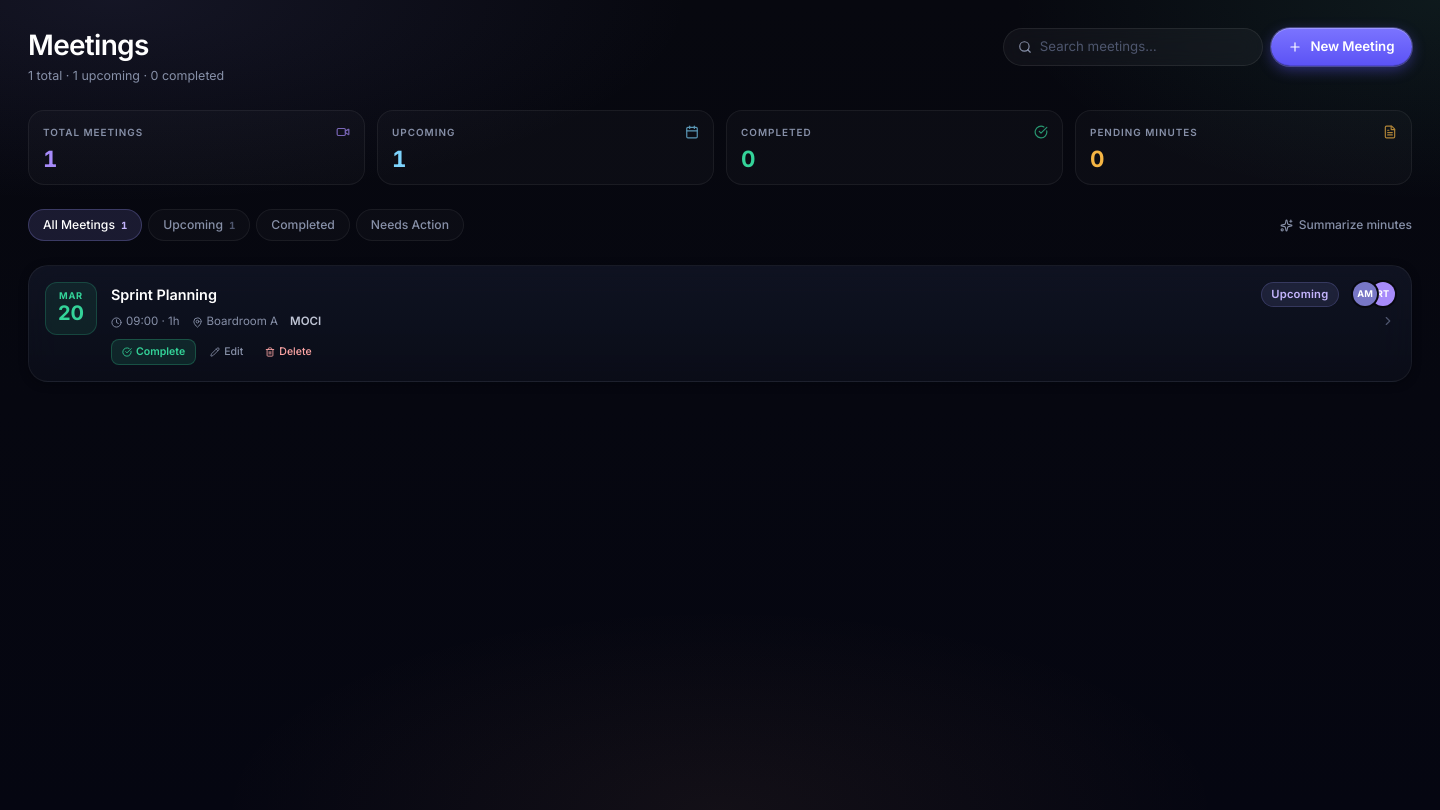
Scenario: Meetings – Edit › opens Edit modal with pre-filled title
Click the button titled "Edit meeting". click: (227, 352)
box: [202,340,251,364]
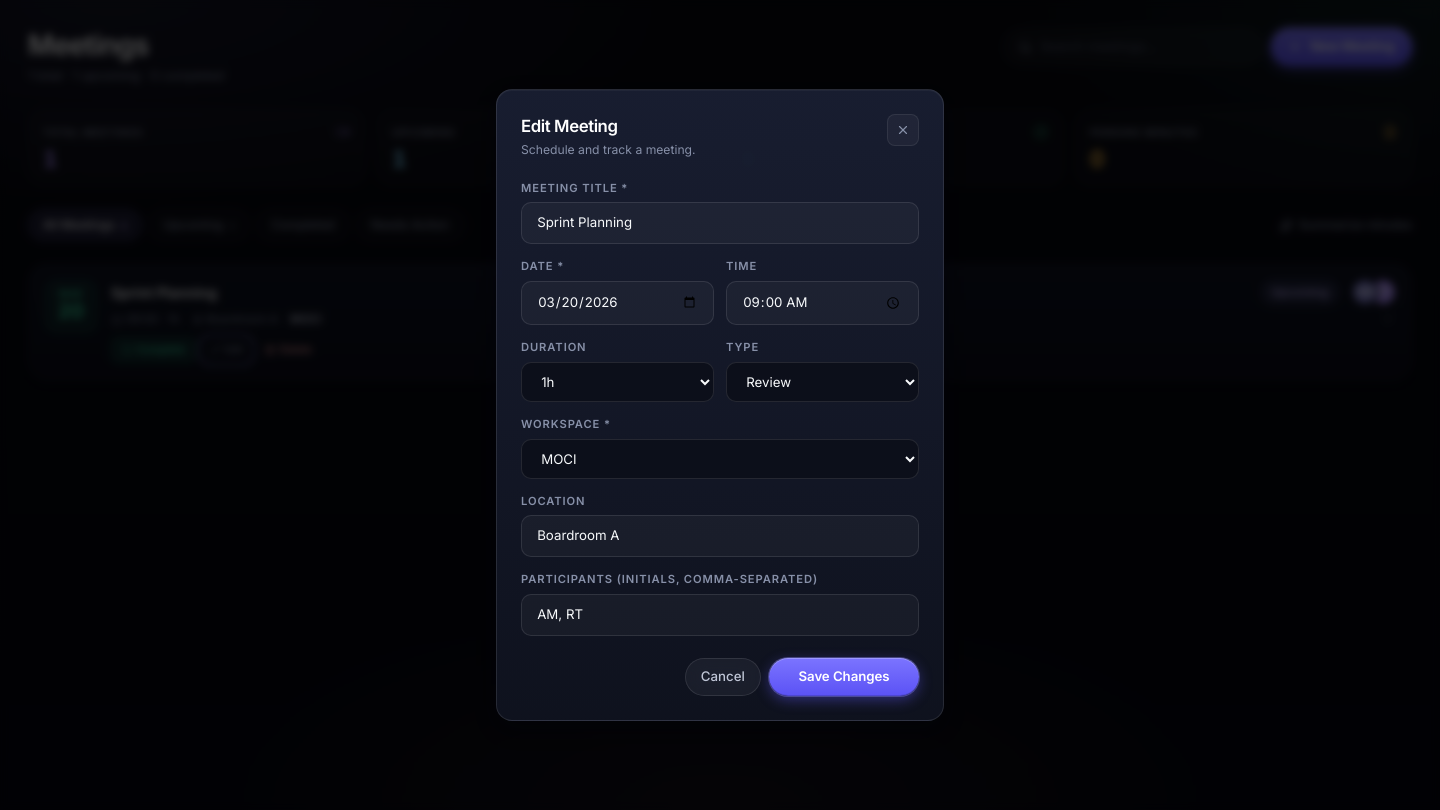
Expected: the heading "Edit Meeting" is shown, [521,116,618,136]
Expected: the field showing "Sprint Planning" below "Meeting title *" is shown, [521,202,919,244]
